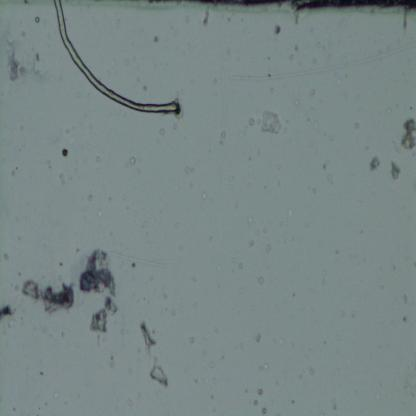Background material: (79, 247, 119, 336), (21, 278, 77, 316), (4, 36, 20, 81), (139, 321, 158, 356), (260, 106, 283, 134), (147, 361, 170, 388), (399, 117, 416, 150), (53, 167, 69, 187), (388, 160, 402, 179), (0, 302, 13, 322), (367, 154, 381, 172), (318, 266, 330, 286), (42, 156, 55, 170), (329, 394, 338, 413), (32, 51, 42, 68), (399, 290, 410, 305), (204, 6, 211, 27), (220, 128, 228, 145), (318, 163, 331, 173), (200, 188, 210, 201), (124, 396, 134, 409), (108, 357, 117, 371), (184, 162, 194, 174), (2, 251, 12, 263), (263, 220, 272, 233), (326, 176, 336, 187), (156, 127, 166, 138), (288, 207, 298, 218), (40, 397, 50, 408), (124, 55, 132, 68), (258, 361, 268, 371), (115, 19, 124, 30), (63, 126, 74, 135), (61, 147, 70, 158), (192, 298, 200, 310), (274, 24, 282, 36), (172, 220, 180, 232), (392, 140, 400, 152), (13, 162, 20, 175), (307, 366, 316, 376), (242, 124, 248, 139), (188, 333, 196, 344), (140, 81, 148, 92), (258, 274, 264, 288), (248, 303, 257, 312), (168, 308, 177, 317), (256, 386, 264, 396), (388, 261, 396, 271), (255, 332, 261, 344), (248, 117, 256, 126), (186, 180, 193, 190), (312, 185, 318, 196), (185, 12, 191, 23), (260, 406, 268, 414), (337, 77, 345, 85), (309, 89, 317, 97), (128, 157, 136, 165), (190, 276, 198, 284), (237, 262, 244, 271), (248, 239, 255, 248), (244, 216, 253, 223), (216, 261, 223, 270), (333, 245, 339, 255), (338, 310, 346, 317), (264, 244, 271, 252), (12, 283, 20, 290), (34, 16, 41, 24), (202, 343, 207, 354), (402, 314, 408, 323), (238, 341, 244, 350), (309, 56, 318, 62), (351, 310, 356, 320), (209, 360, 215, 368), (54, 392, 60, 400), (94, 155, 100, 163), (86, 193, 92, 201), (178, 243, 184, 251), (191, 376, 197, 384), (164, 291, 170, 299), (290, 52, 296, 60), (136, 74, 142, 82), (322, 339, 328, 347), (354, 123, 360, 131), (154, 38, 161, 44), (38, 369, 45, 375), (173, 123, 179, 130), (294, 45, 300, 52), (257, 146, 261, 156), (133, 53, 137, 63), (208, 234, 213, 242), (16, 272, 22, 278), (252, 399, 258, 405), (107, 195, 113, 201), (316, 43, 322, 49), (254, 227, 258, 236), (308, 26, 313, 33), (59, 260, 64, 267), (270, 86, 275, 93), (18, 126, 25, 131), (121, 194, 128, 199), (150, 276, 154, 284), (42, 325, 46, 333), (62, 329, 66, 337), (275, 165, 281, 170), (278, 221, 284, 226), (231, 256, 236, 262), (144, 222, 148, 228), (122, 330, 126, 336), (244, 388, 248, 394), (292, 294, 296, 298), (336, 336, 340, 340), (249, 157, 252, 160)
Cellulose filter fibre: (54, 0, 178, 114)
Edge of slide: (142, 0, 416, 29)
Glass filter fibre: (228, 43, 416, 81), (262, 56, 336, 148), (216, 14, 229, 229), (108, 248, 164, 268)
